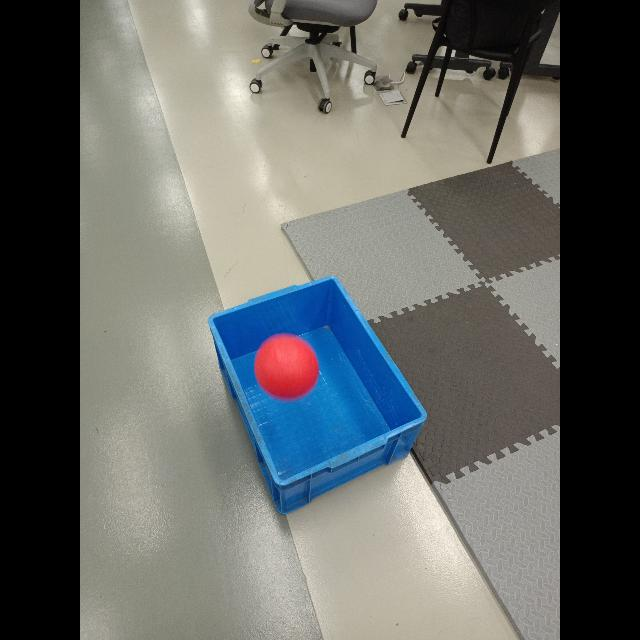R: (250, 336, 320, 406)
